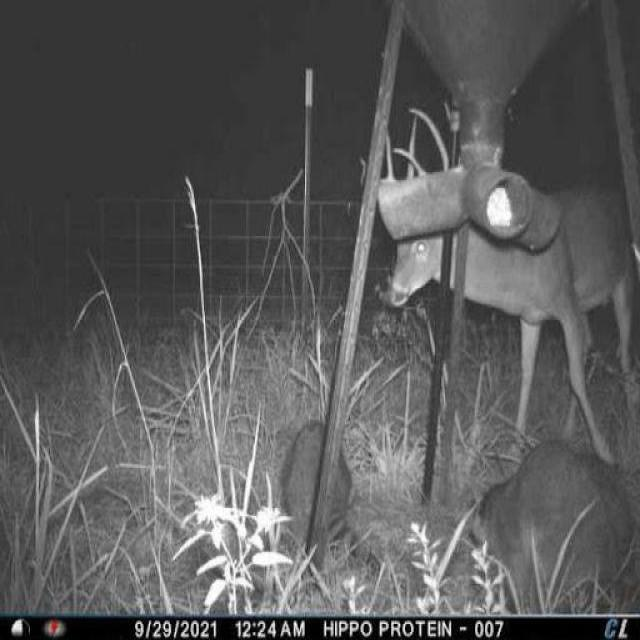deer: (371, 96, 640, 461)
